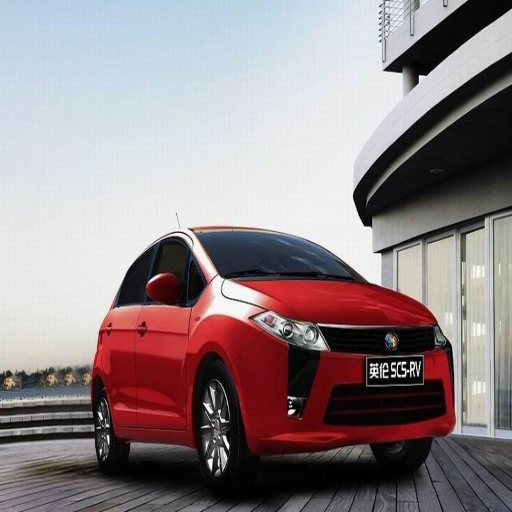front_bumper: (245, 323, 452, 454)
front_right_door: (136, 233, 194, 427)
front_right_light: (253, 311, 324, 349)
